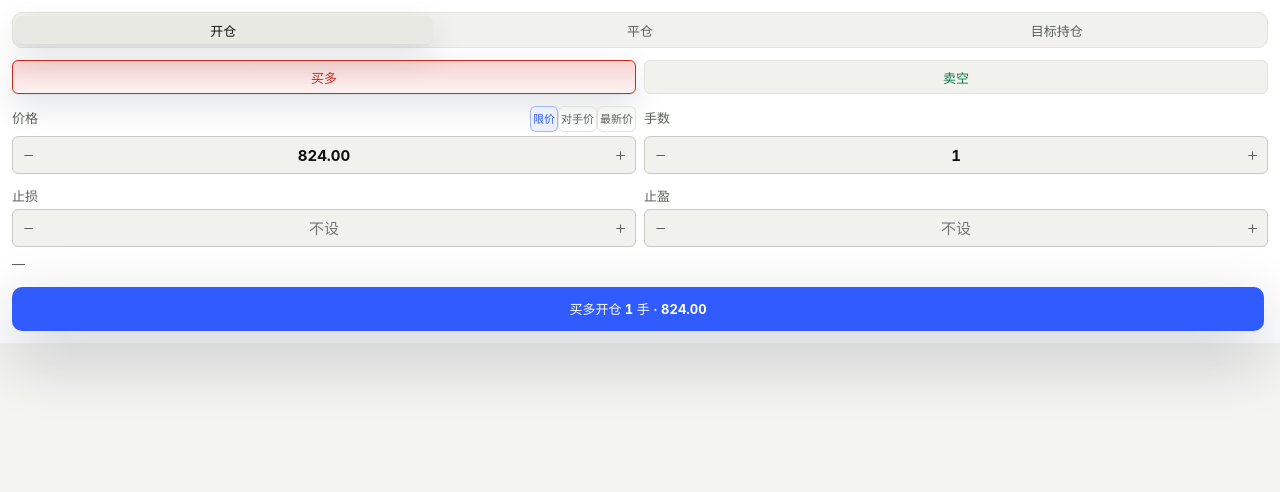
Test case: TradeTicket 下单顺带保护 › 填了止损/止盈显示约亏/约赚，随单提交后清空
The image size is (1280, 492).
In the number field with test id "stop-loss-input": (324, 228) [43,218,605,238], type "823.98"
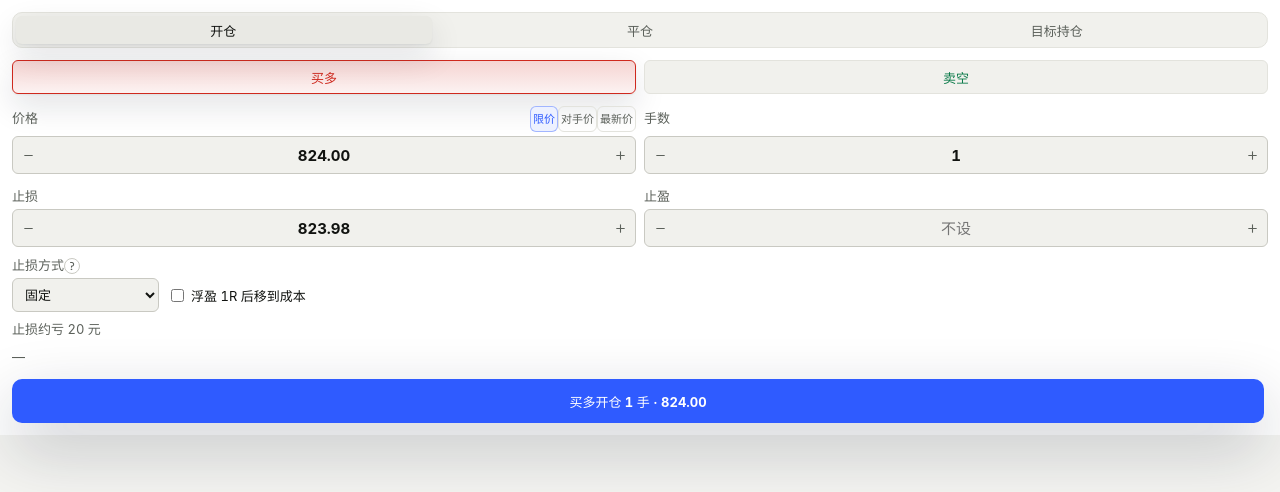
In the number field with test id "take-profit-input": (956, 228) [675,218,1237,238], type "824.6"
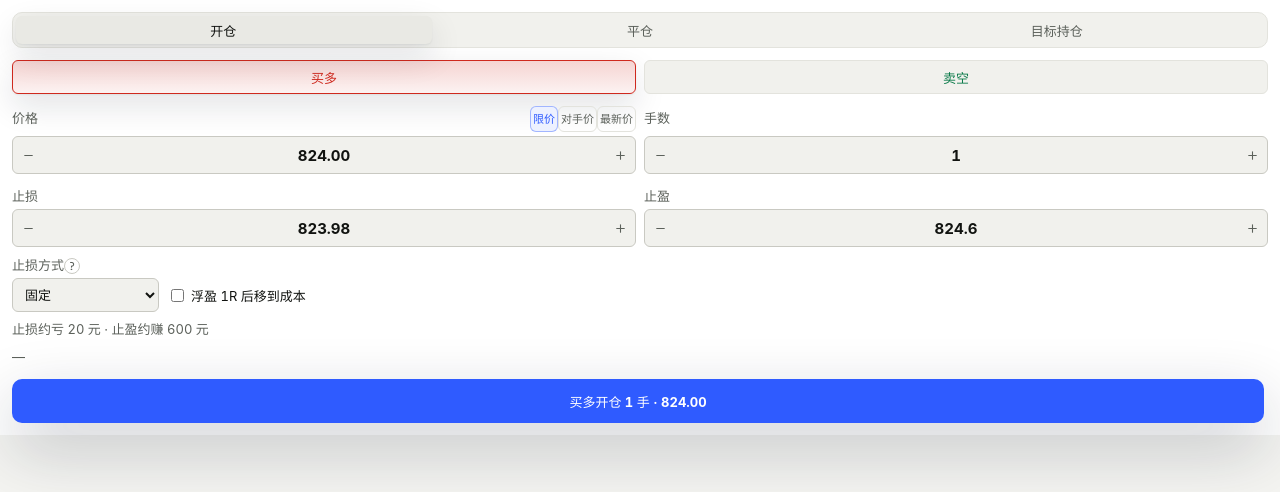
Check: the text with test id "ticket-protection-estimate" reads "止损约亏 20 元 · 止盈约赚 600 元", box [12,322,209,338]
Click the button "买多开仓 1 手 · 824.00": (638, 402) [12,380,1264,424]
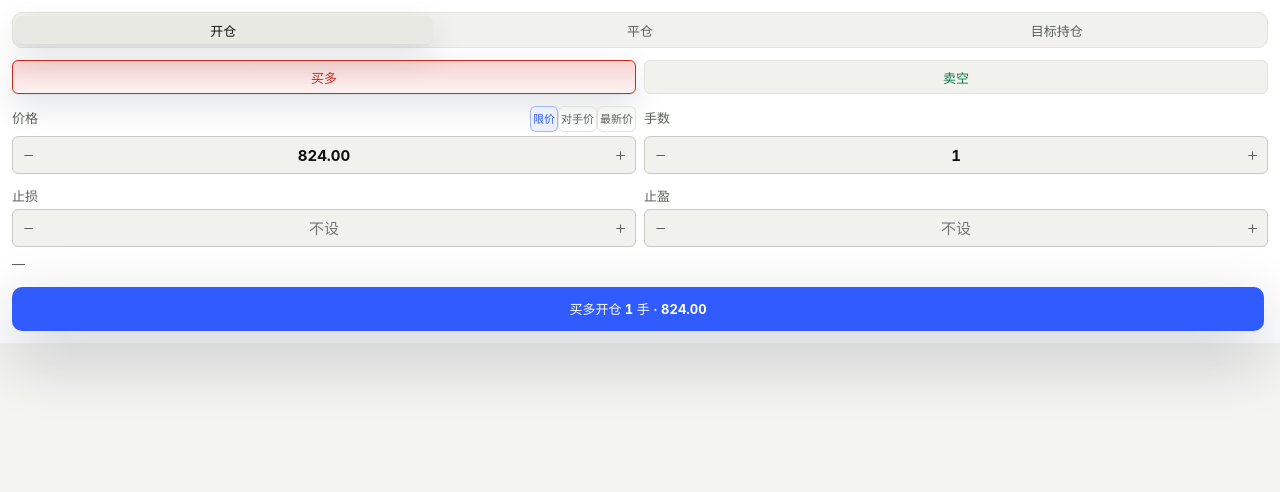
Check: the number field with test id "stop-loss-input" is empty, box [43,218,605,238]
Check: the text with test id "ticket-protection-estimate" is gone
